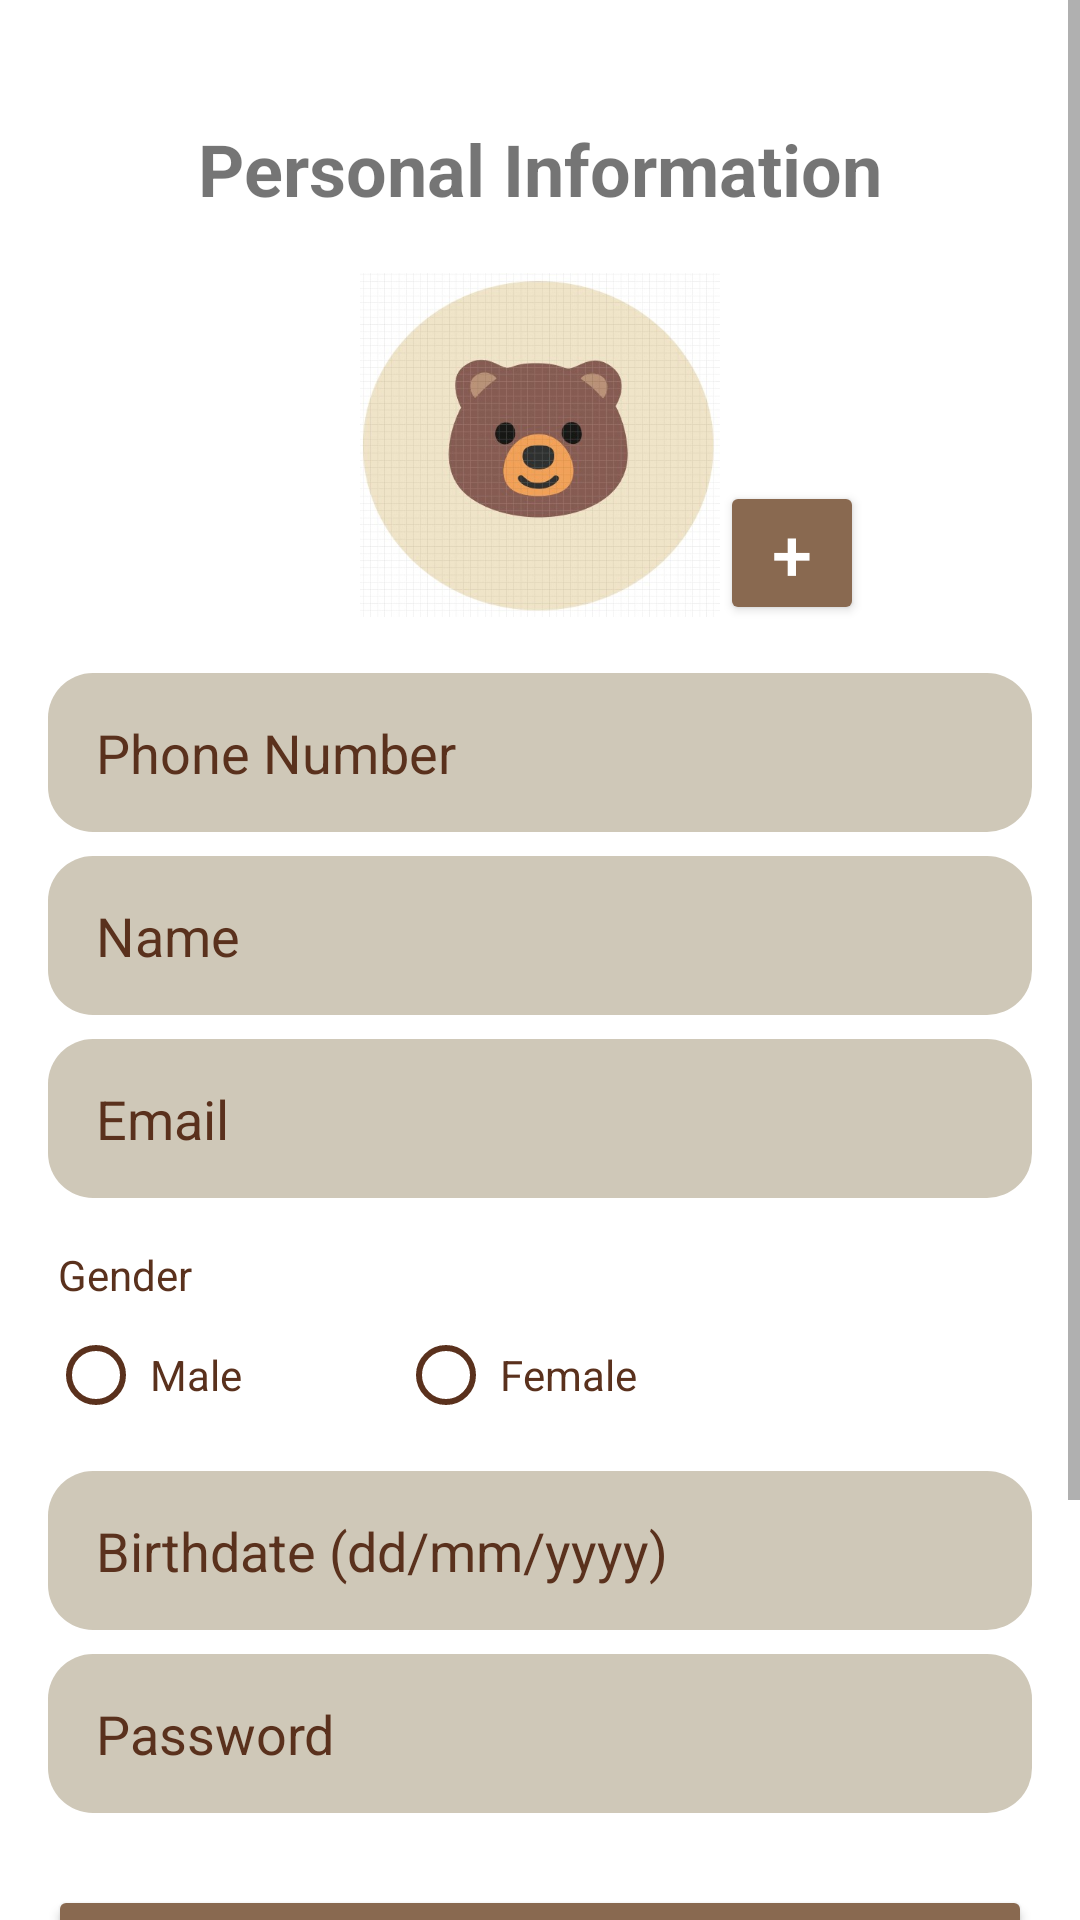

Icon click points for this 1080×1920 phone screenshot, format (x,y):
profile photo: (538,446)
